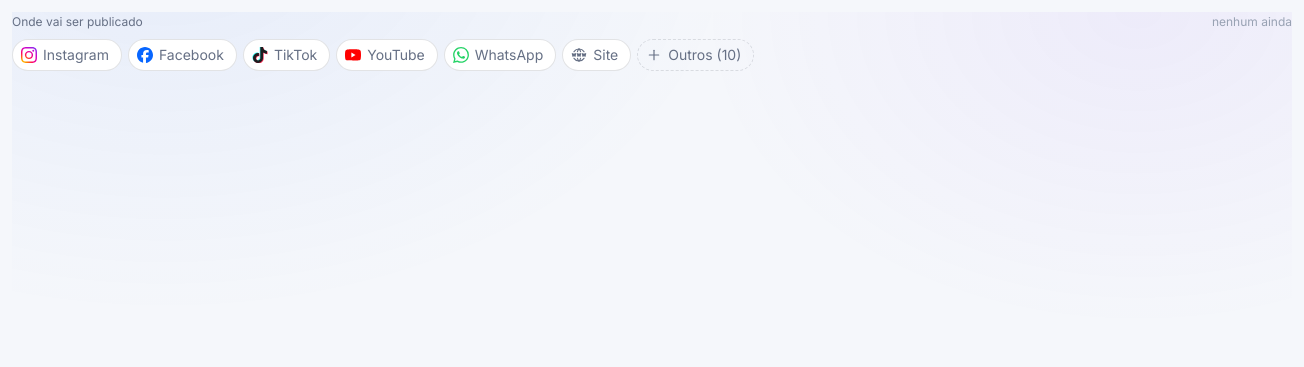
Scenario: DestinosSelector › Outros abre os grupos
The width and height of the screenshot is (1304, 367).
Click the button "Outros (10)" at {"x": 696, "y": 55}, box [637,39,754,71]
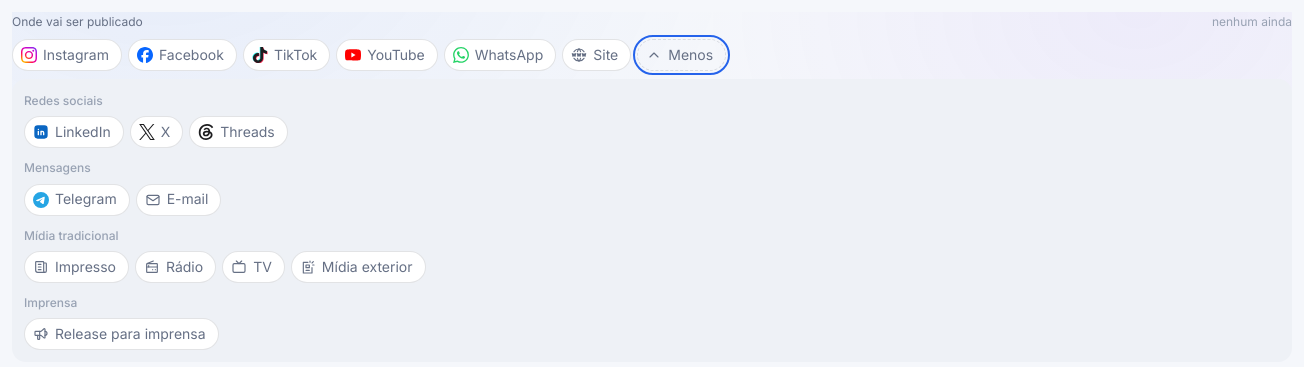
Result: the button named "Outros (10)" is expanded at [637,39,726,71]
Result: the element named "Mídia tradicional" is shown at [24,251,426,283]
Result: the button "Release para imprensa" is shown at [24,318,219,350]
